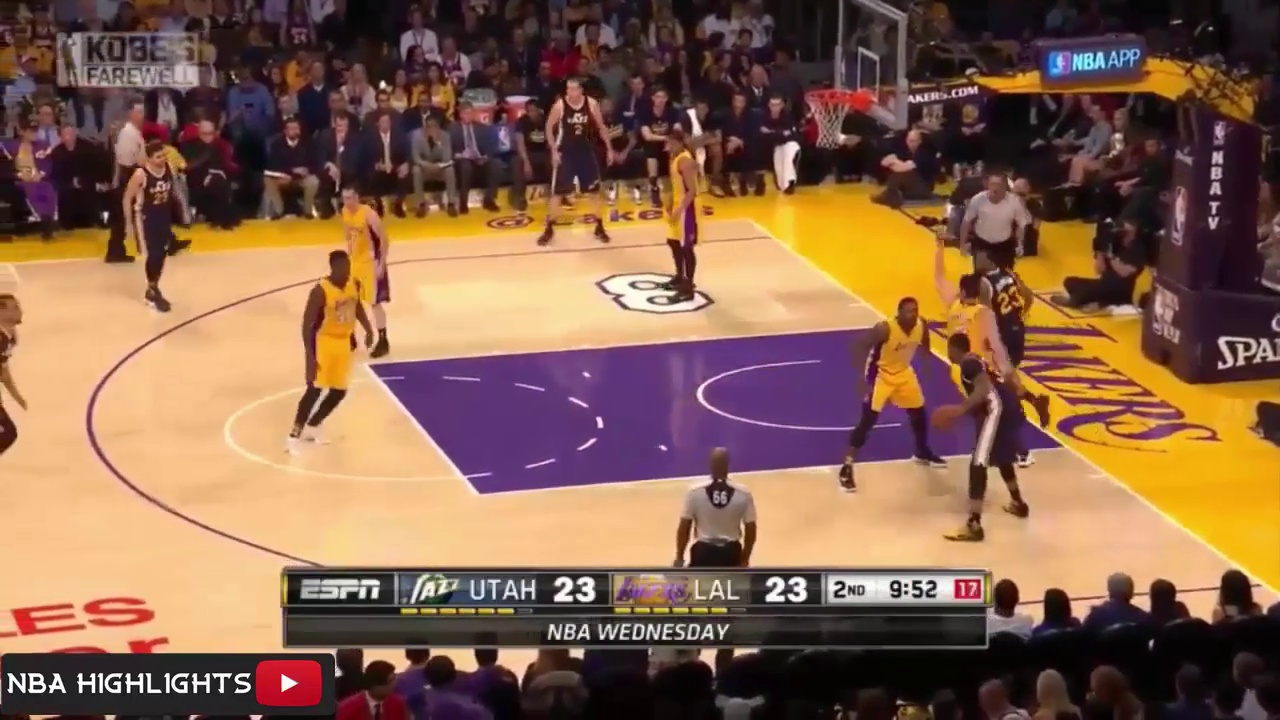jazz: (931, 335, 1030, 547), (540, 76, 621, 246), (128, 140, 191, 315), (970, 247, 1036, 364), (1, 287, 36, 451)
lakers: (283, 248, 367, 447), (863, 298, 935, 477), (338, 182, 391, 348), (937, 256, 1002, 371), (663, 139, 708, 299)
